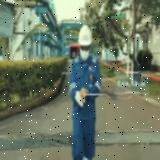Helmet: (78, 25, 93, 47)
